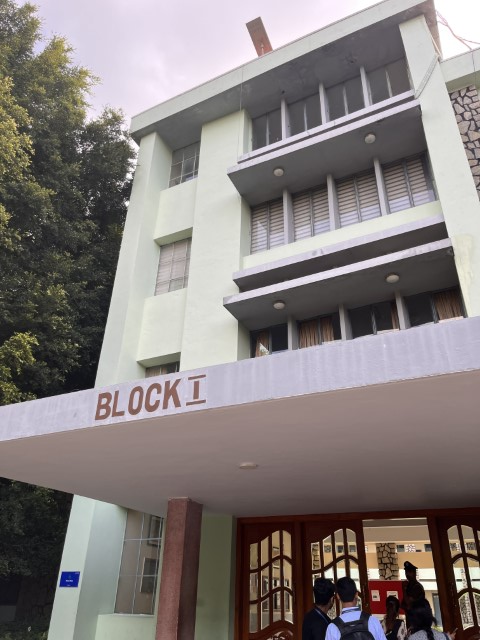Block 1: (78, 1, 479, 606)
